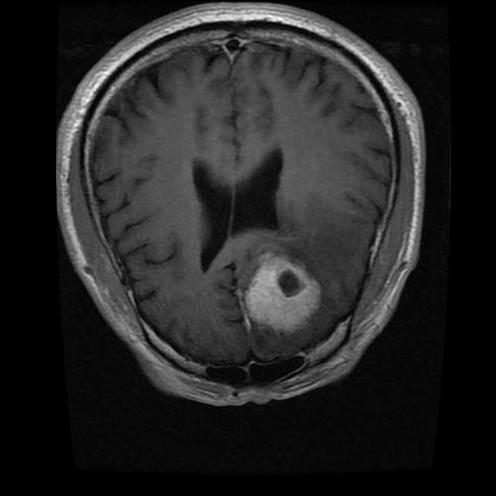Tumour-Meningioma: (228, 245, 333, 352)
